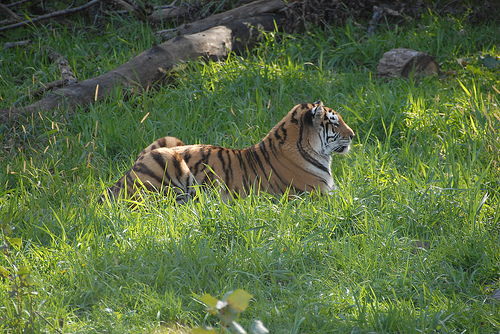Tigre: (118, 91, 352, 219)
